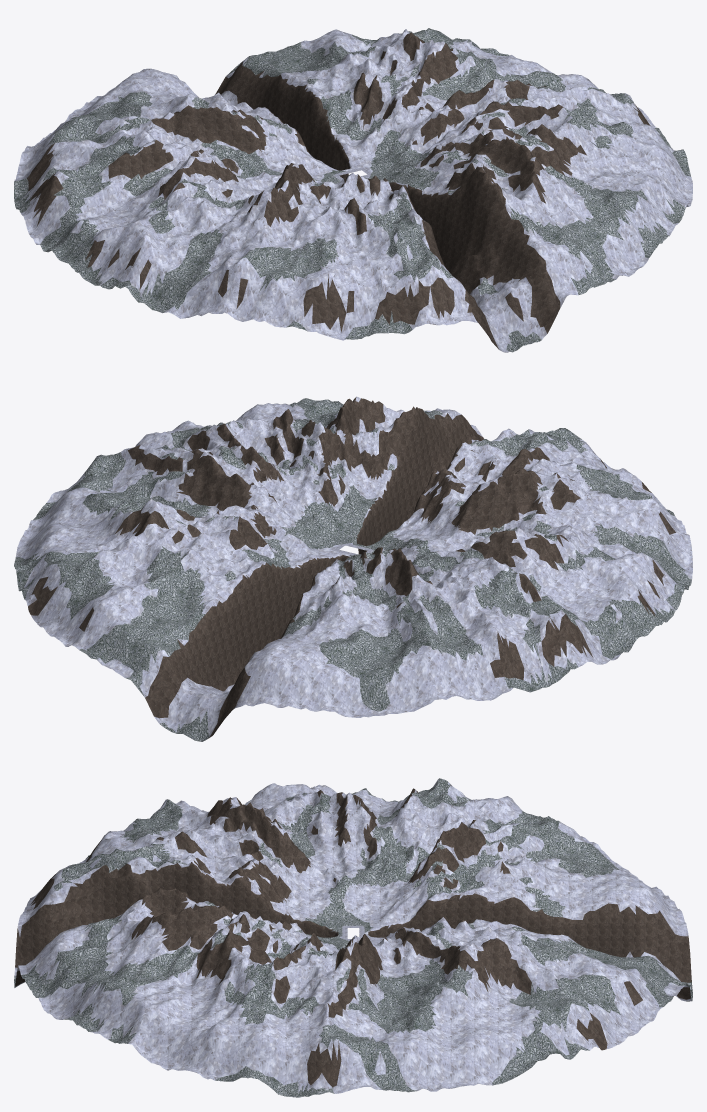
File: backdrop_near_rect_duneW_winter.glb
3 views of the same model, one above another, from view 1: azimuth 30°, elevation 25°; view 2: azimuth 150°, elevation 25°; view 3: azimuth 270°, elevation 25° (orthographic).
Parts seen in each view (by area): view 1: near_land_S, near_land_W, near_land_E, near_land_N; view 2: near_land_N, near_land_W, near_land_E, near_land_S; view 3: near_land_E, near_land_S, near_land_N, near_land_W.
Part boxes in pixels (left/top/right/bottom): near_land_S: left=265, top=127, right=681, bottom=352; near_land_W: left=14, top=105, right=340, bottom=321; near_land_E: left=357, top=29, right=692, bottom=220; near_land_N: left=25, top=28, right=433, bottom=178; near_land_N: left=26, top=516, right=444, bottom=741; near_land_W: left=370, top=468, right=692, bottom=700; near_land_E: left=14, top=403, right=352, bottom=600; near_land_S: left=272, top=396, right=676, bottom=554; near_land_E: left=115, top=914, right=593, bottom=1097; near_land_S: left=14, top=819, right=342, bottom=1042; near_land_N: left=364, top=822, right=692, bottom=1050; near_land_W: left=137, top=778, right=592, bottom=928.
Size of the model in its own units: 576 by 168 by 576.
Materials: 4 (4 with a texture image).
